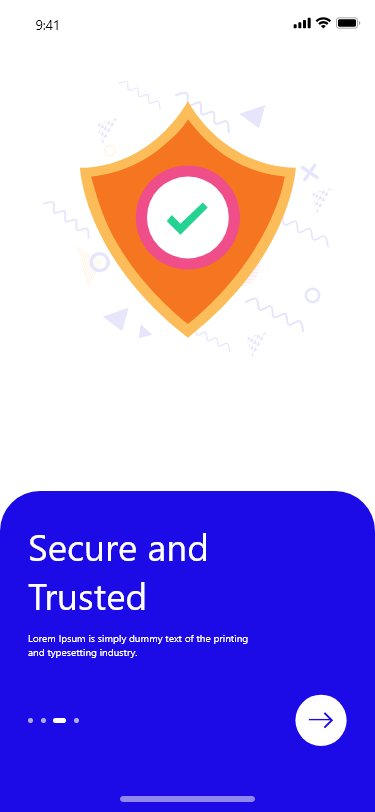Icon: (294, 694, 347, 747)
Image: (43, 81, 331, 358)
PageIndicator: (28, 717, 81, 725)
Text: (29, 532, 208, 612), (28, 634, 249, 659)
UpperTaskBar: (36, 17, 361, 32)
